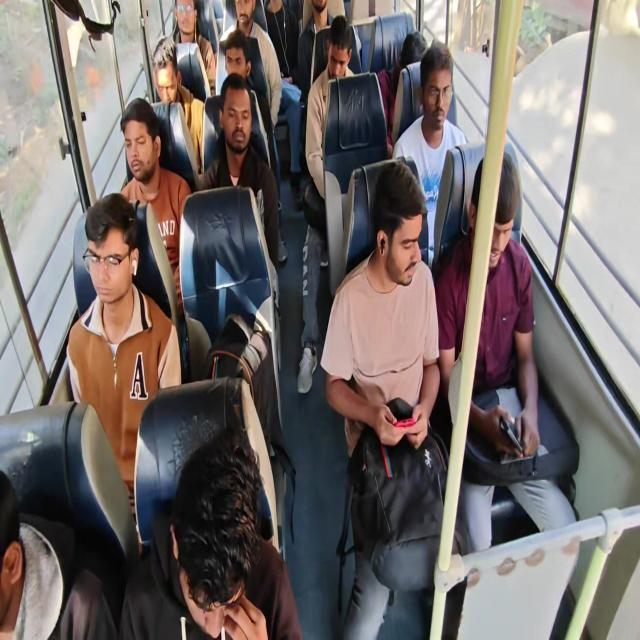person: (129, 471, 279, 640), (48, 213, 155, 390), (462, 142, 540, 334), (115, 118, 231, 245), (376, 178, 461, 321), (0, 454, 33, 640), (142, 47, 188, 105), (265, 3, 300, 79), (424, 58, 459, 133), (225, 77, 255, 150), (331, 20, 365, 78), (215, 34, 253, 84), (172, 1, 205, 54), (395, 29, 423, 69), (226, 0, 255, 31), (313, 0, 337, 31)
